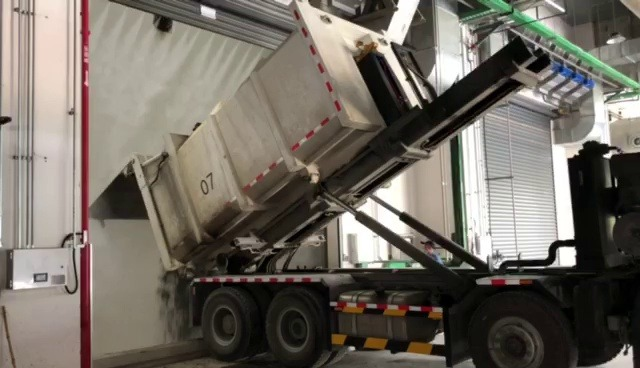dust: (94, 71, 202, 159), (95, 228, 164, 345)
truck: (128, 0, 640, 368)
